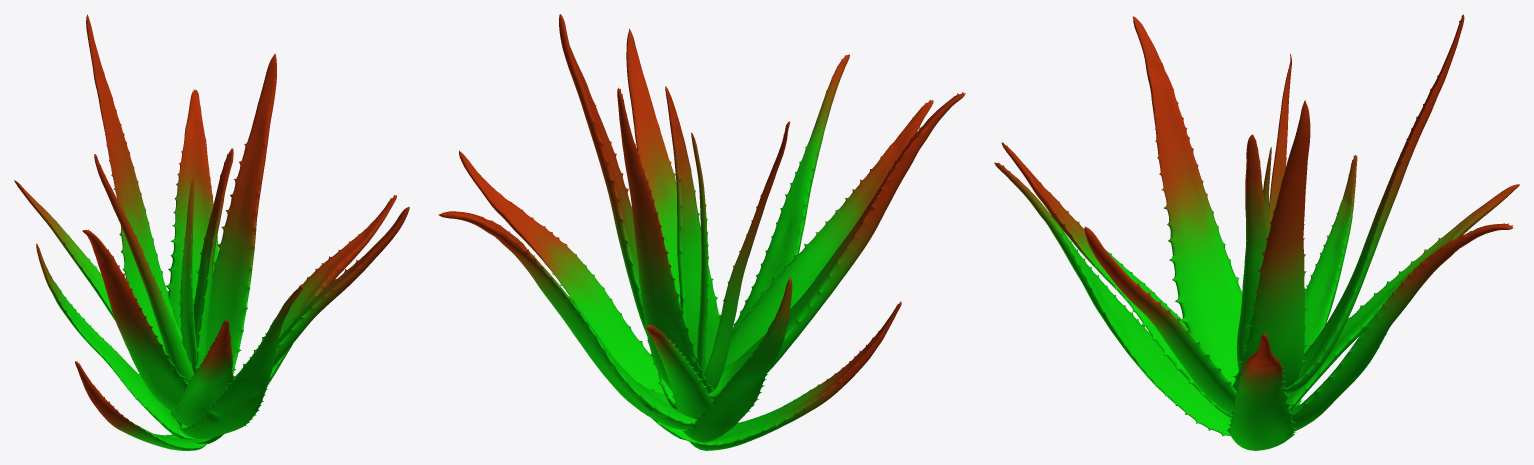
Rendered from Aloe Vera_LOD1_Var9_ve4tbbrha.fbx.
3 renders of one model, left to right at view 1: azimuth 30°, elevation 25°; view 2: azimuth 150°, elevation 25°; view 3: azimuth 270°, elevation 25°, orthographic. The views are drawn at different scales.
Visible parts, largest first — view 1: _fuf0_Var9_LOD1; view 2: _fuf0_Var9_LOD1; view 3: _fuf0_Var9_LOD1.
Part boxes in pixels (<box>): _fuf0_Var9_LOD1: <box>14,14,409,450</box>; _fuf0_Var9_LOD1: <box>438,14,965,450</box>; _fuf0_Var9_LOD1: <box>994,14,1519,450</box>.
Size of the model in its own units: 49.49 by 47.6 by 53.18.
